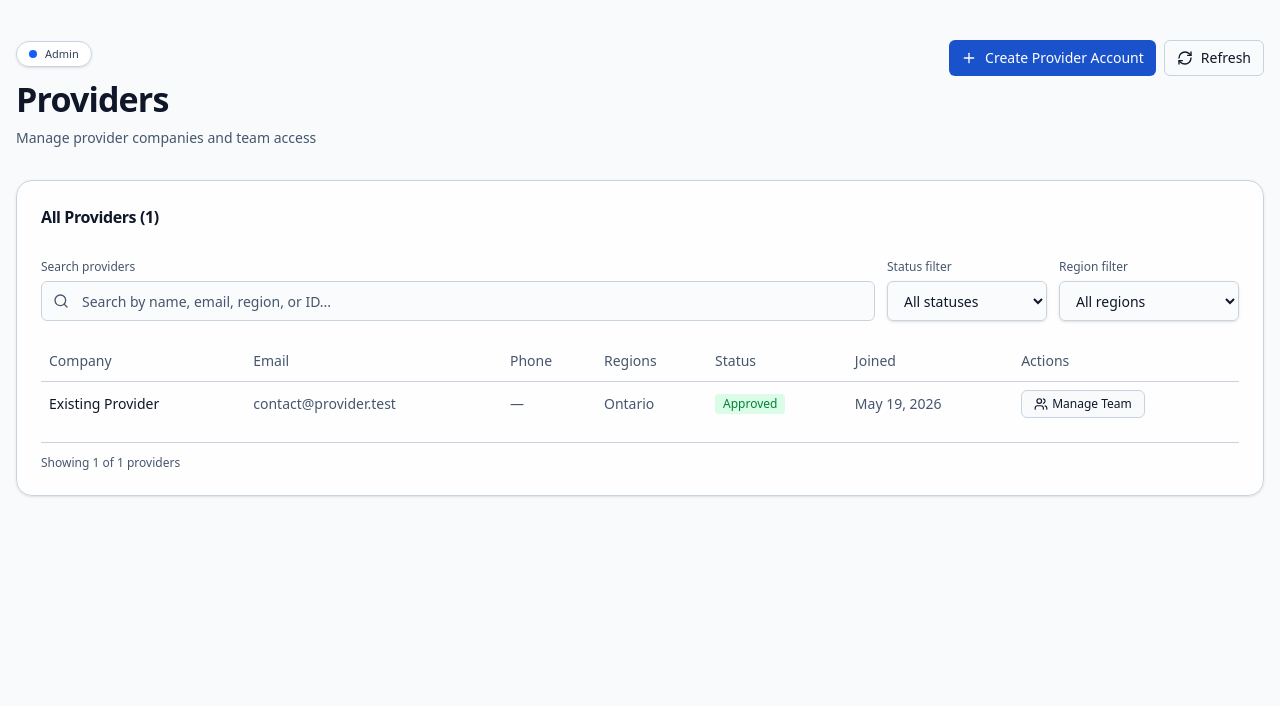
AdminProvidersPage2 provider account creation › opens providers in the same master-detail workflow as dealerships
Expected: the text "Existing Provider" is shown, [41, 381, 245, 426]
Step 1. Click the button "Manage Team" → x=1083, y=404, box [1021, 390, 1145, 418]
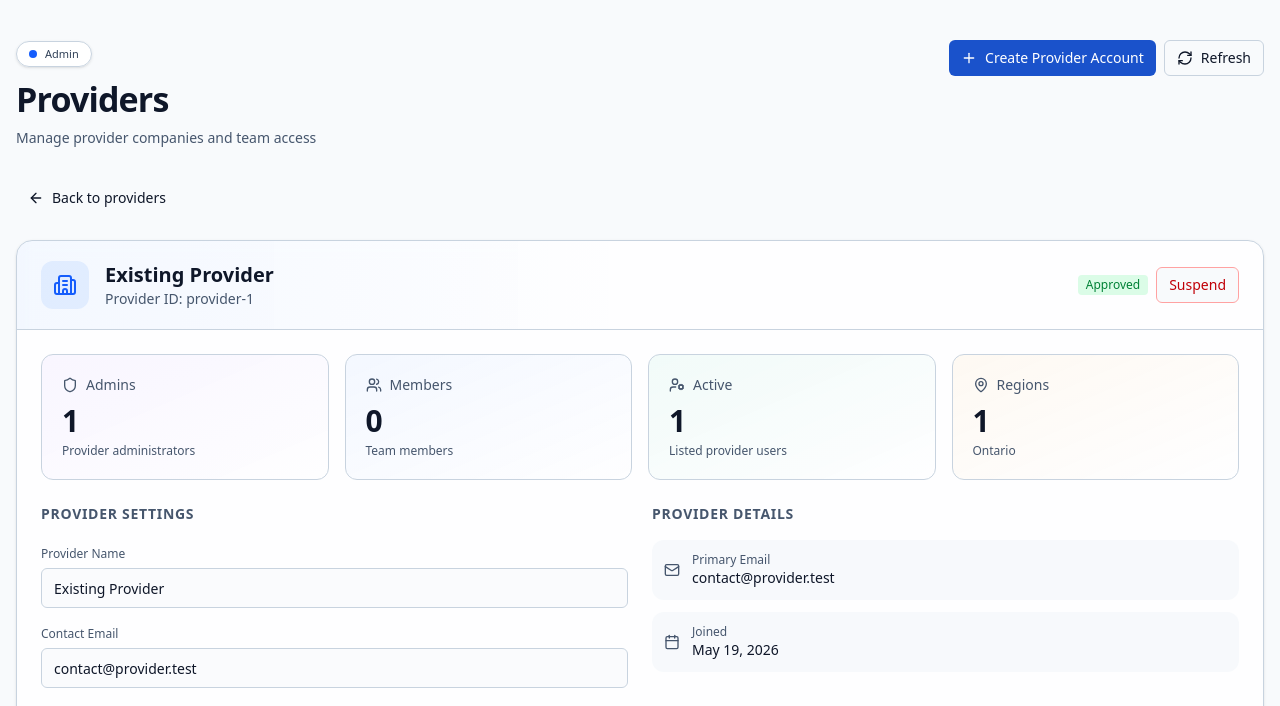
Result: the button "Back to providers" is shown at [16, 180, 178, 216]
Result: the text "Provider ID: provider-1" is shown at [105, 289, 274, 309]
Result: the heading "Provider Settings" is shown at [41, 504, 194, 523]
